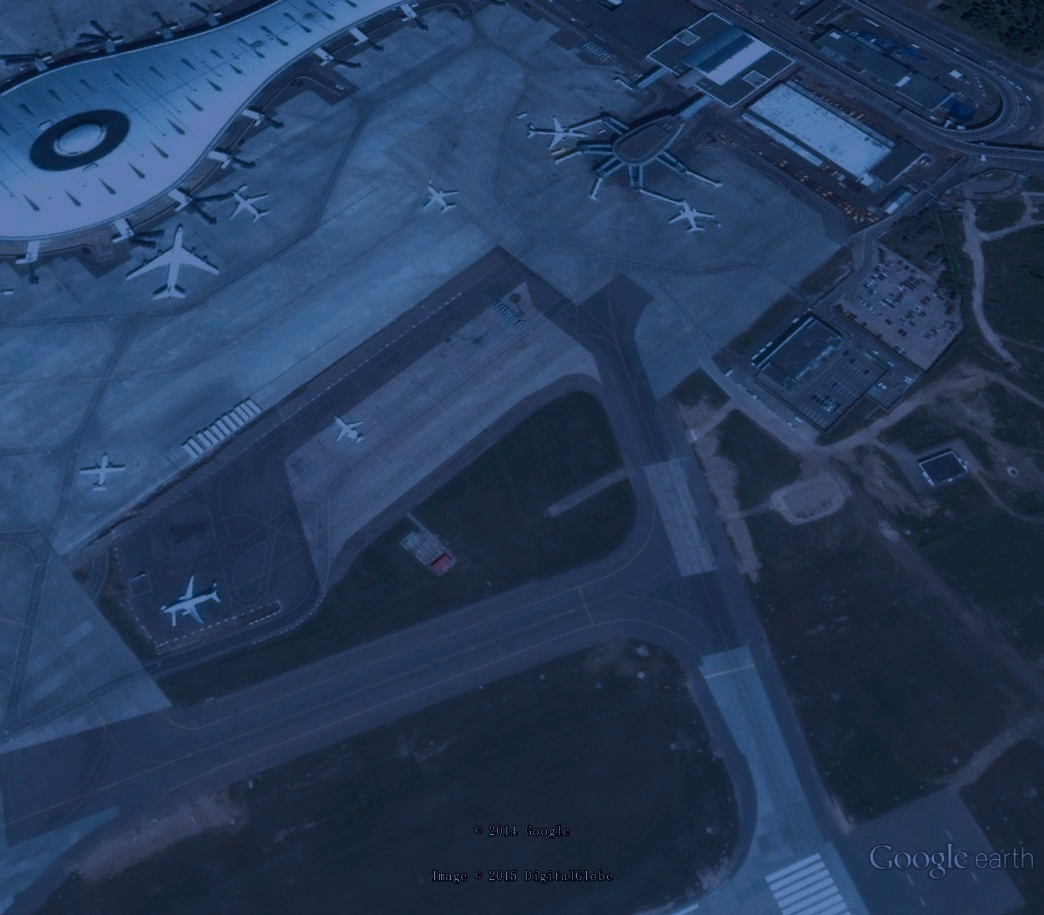aircraft: (121, 222, 223, 304), (157, 574, 226, 633), (526, 115, 591, 153), (666, 198, 723, 240), (75, 450, 127, 495), (223, 189, 277, 226), (424, 178, 462, 217), (333, 411, 367, 447)
